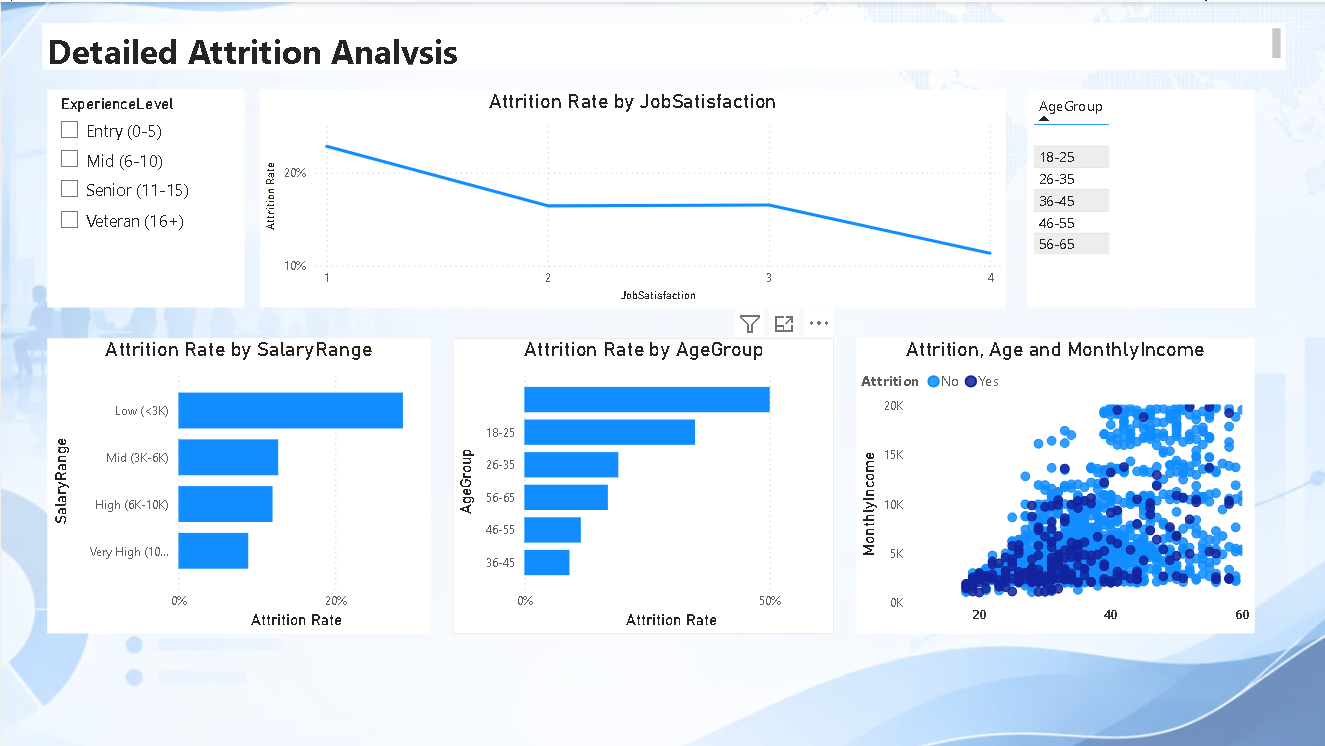

This screenshot's page, from the dashboard's own definition file:
{"tool":"powerbi","page":{"name":"Detailed","canvas":[1280,720],"ordinal":2},"visuals":[{"type":"scatterChart","fields":{"X":["cleaned_hr_data.Age"],"Series":["cleaned_hr_data.Attrition"],"Y":["cleaned_hr_data.MonthlyIncome"]},"box":[825,325,385,285],"z":0},{"type":"slicer","fields":{"Values":["cleaned_hr_data.ExperienceLevel"]},"box":[45,85,190,210],"z":1000},{"type":"lineChart","fields":{"Y":["cleaned_hr_data.Attrition Rate"],"Category":["cleaned_hr_data.JobSatisfaction"]},"box":[250,85,720,210],"z":2000},{"type":"clusteredBarChart","fields":{"Category":["cleaned_hr_data.SalaryRange"],"Y":["cleaned_hr_data.Attrition Rate"]},"box":[45,325,370,285],"z":3000},{"type":"clusteredBarChart","fields":{"Y":["cleaned_hr_data.Attrition Rate"],"Category":["cleaned_hr_data.AgeGroup"]},"box":[435,325,370,285],"z":4000},{"type":"tableEx","fields":{"Values":["cleaned_hr_data.AgeGroup"]},"box":[990,85,220,210],"z":5000},{"type":"textbox","box":[39.8,20.5,1200,45],"z":9000}]}

Visuals, with their boxes in screenshot pixels (x1, y1, x2, y2), scaled from the page's 1280x720 canvas onto the 1325x746 screenshot:
scatterChart - cleaned_hr_data.Age x cleaned_hr_data.Attrition: locate(854, 337, 1253, 632)
slicer - cleaned_hr_data.ExperienceLevel: locate(47, 88, 243, 306)
lineChart - cleaned_hr_data.Attrition Rate x cleaned_hr_data.JobSatisfaction: locate(259, 88, 1004, 306)
clusteredBarChart - cleaned_hr_data.SalaryRange x cleaned_hr_data.Attrition Rate: locate(47, 337, 430, 632)
clusteredBarChart - cleaned_hr_data.Attrition Rate x cleaned_hr_data.AgeGroup: locate(450, 337, 833, 632)
tableEx - cleaned_hr_data.AgeGroup: locate(1025, 88, 1253, 306)
textbox: locate(41, 21, 1283, 68)
